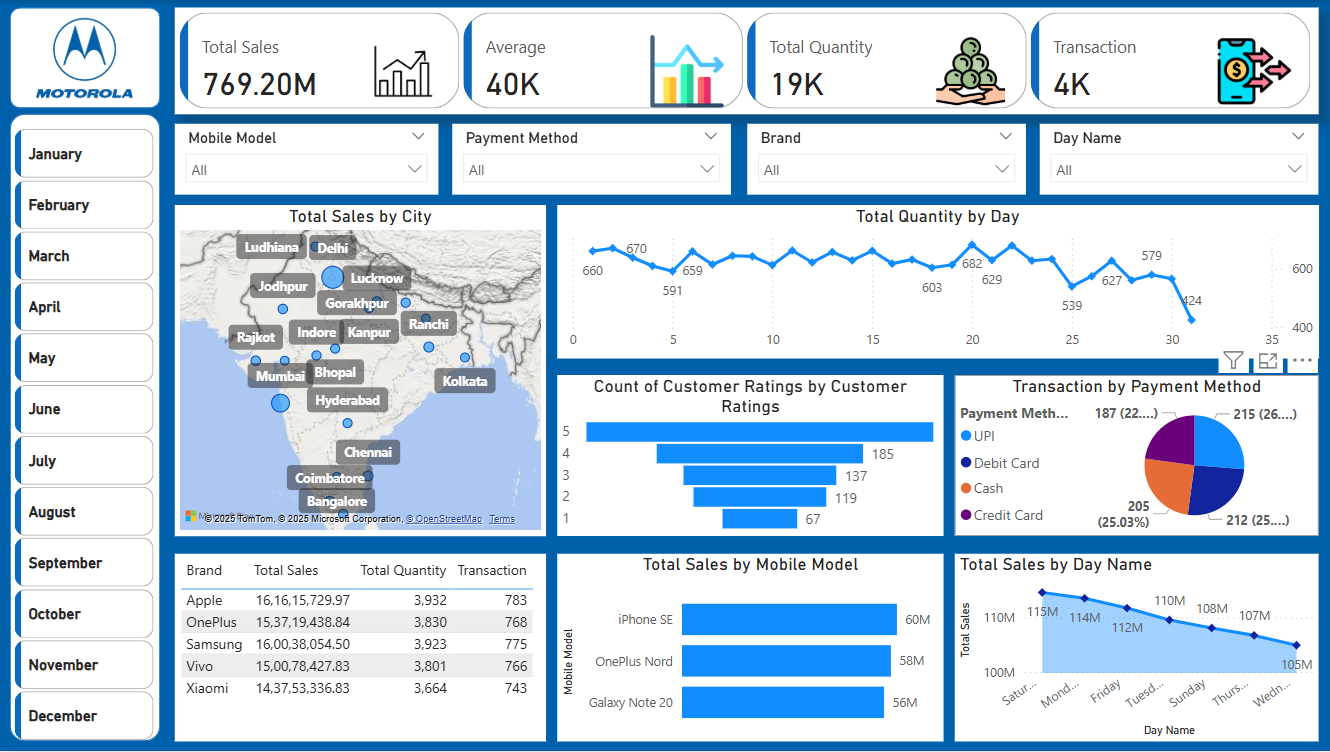

The dashboard page shown, as its layout file describes it:
{"tool":"powerbi","page":{"name":"PROJECT","canvas":[1280,720],"ordinal":0},"visuals":[{"type":"shape","box":[13,7.2,144.3,96.7],"z":0},{"type":"image","box":[20.2,2.9,128.4,106.8],"z":1000},{"type":"shape","box":[13,109.6,144.3,601.6],"z":2000},{"type":"advancedSlicerVisual","fields":{"Values":["SALES DATA.DATE.Variation.Date Hierarchy.Month"]},"box":[13.2,118.7,143.8,601.6],"z":3000},{"type":"cardVisual","fields":{"Data":["SALES DATA.Total Sales","SALES DATA.Average","SALES DATA.Total Quantity","SALES DATA.Transaction"]},"box":[171.7,7.2,1096.5,102.4],"z":4000},{"type":"map","fields":{"Category":["SALES DATA.City"],"Size":["SALES DATA.Total Sales"]},"box":[171.7,196.2,356.4,317.4],"z":5000},{"type":"lineChart","fields":{"Category":["SALES DATA.DATE.Variation.Date Hierarchy.Month","SALES DATA.DATE.Variation.Date Hierarchy.Day"],"Y2":["SALES DATA.Total Quantity"]},"box":[538.2,196.2,730,147.2],"z":6000},{"type":"clusteredBarChart","fields":{"Category":["SALES DATA.Mobile Model"],"Y":["SALES DATA.Total Sales"]},"box":[538.2,530.9,370.8,180.3],"z":7000},{"type":"pieChart","fields":{"Y":["SALES DATA.Transaction"],"Category":["SALES DATA.Payment Method"]},"box":[919,359.2,349.1,154.4],"z":8000},{"type":"funnel","fields":{"Category":["SALES DATA.Customer Ratings"],"Y":["CountNonNull(SALES DATA.Customer Ratings)"]},"box":[538.2,359.2,370.8,154.4],"z":9000},{"type":"areaChart","fields":{"Category":["SALES DATA.Day Name"],"Y":["SALES DATA.Total Sales"]},"box":[919,530.9,349.1,180.3],"z":10000},{"type":"tableEx","fields":{"Values":["SALES DATA.Brand","SALES DATA.Total Sales","SALES DATA.Total Quantity","SALES DATA.Transaction"]},"box":[171.7,530.9,356.4,180.3],"z":11000},{"type":"slicer","fields":{"Values":["SALES DATA.Mobile Model"]},"box":[171.7,118.3,252.5,67.8],"z":12000},{"type":"slicer","fields":{"Values":["SALES DATA.Payment Method"]},"box":[437.2,118.3,266.9,67.8],"z":13000},{"type":"slicer","fields":{"Values":["SALES DATA.Brand"]},"box":[719.9,118.3,266.9,67.8],"z":14000},{"type":"slicer","fields":{"Values":["SALES DATA.Day Name"]},"box":[1001.3,118.3,266.9,67.8],"z":15000}]}

Visuals, with their boxes in screenshot pixels (x1, y1, x2, y2), scaled from the page's 1280x720 canvas onto the 1330x752 screenshot:
shape: BBox(14, 8, 163, 109)
image: BBox(21, 3, 154, 115)
shape: BBox(14, 114, 163, 743)
advancedSlicerVisual - SALES DATA.DATE.Variation.Date Hierarchy.Month: BBox(14, 124, 163, 751)
cardVisual - SALES DATA.Total Sales x SALES DATA.Average: BBox(178, 8, 1318, 114)
map - SALES DATA.City x SALES DATA.Total Sales: BBox(178, 205, 549, 536)
lineChart - SALES DATA.DATE.Variation.Date Hierarchy.Month x SALES DATA.DATE.Variation.Date Hierarchy.Day: BBox(559, 205, 1318, 359)
clusteredBarChart - SALES DATA.Mobile Model x SALES DATA.Total Sales: BBox(559, 554, 945, 743)
pieChart - SALES DATA.Transaction x SALES DATA.Payment Method: BBox(955, 375, 1318, 536)
funnel - SALES DATA.Customer Ratings x CountNonNull(SALES DATA.Customer Ratings): BBox(559, 375, 945, 536)
areaChart - SALES DATA.Day Name x SALES DATA.Total Sales: BBox(955, 554, 1318, 743)
tableEx - SALES DATA.Brand x SALES DATA.Total Sales: BBox(178, 554, 549, 743)
slicer - SALES DATA.Mobile Model: BBox(178, 124, 441, 194)
slicer - SALES DATA.Payment Method: BBox(454, 124, 732, 194)
slicer - SALES DATA.Brand: BBox(748, 124, 1025, 194)
slicer - SALES DATA.Day Name: BBox(1040, 124, 1318, 194)
